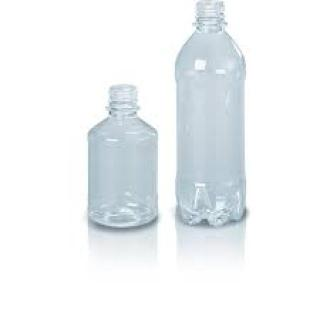Anorganik: (172, 3, 250, 229), (82, 81, 163, 234)
